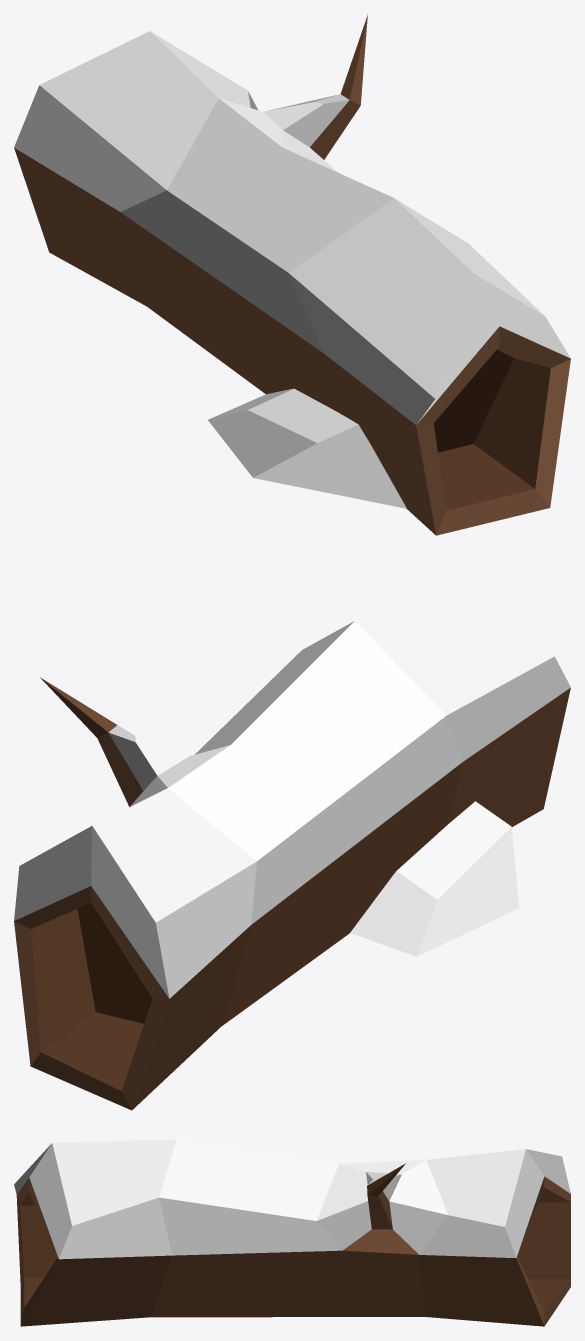
The model's file is FallenLog.fbx.
3 renders of one model, top to bottom at view 1: azimuth 30°, elevation 25°; view 2: azimuth 150°, elevation 25°; view 3: azimuth 270°, elevation 25°, orthographic. The views are drawn at different scales.
Parts seen in each view (by area): view 1: FallenLog; view 2: FallenLog; view 3: FallenLog.
Boxes of the visible parts, x1,y1,x2,y2 form: FallenLog: (14,14,570,535); FallenLog: (14,564,570,1110); FallenLog: (14,1139,570,1326).
Size of the model in its own units: 0.3263 by 0.3013 by 0.7821.
